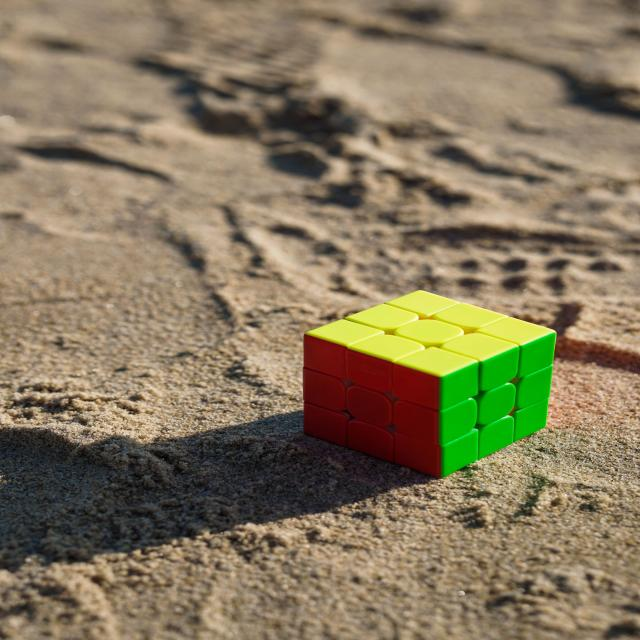Cubo-Resuelto: (296, 290, 562, 479)
